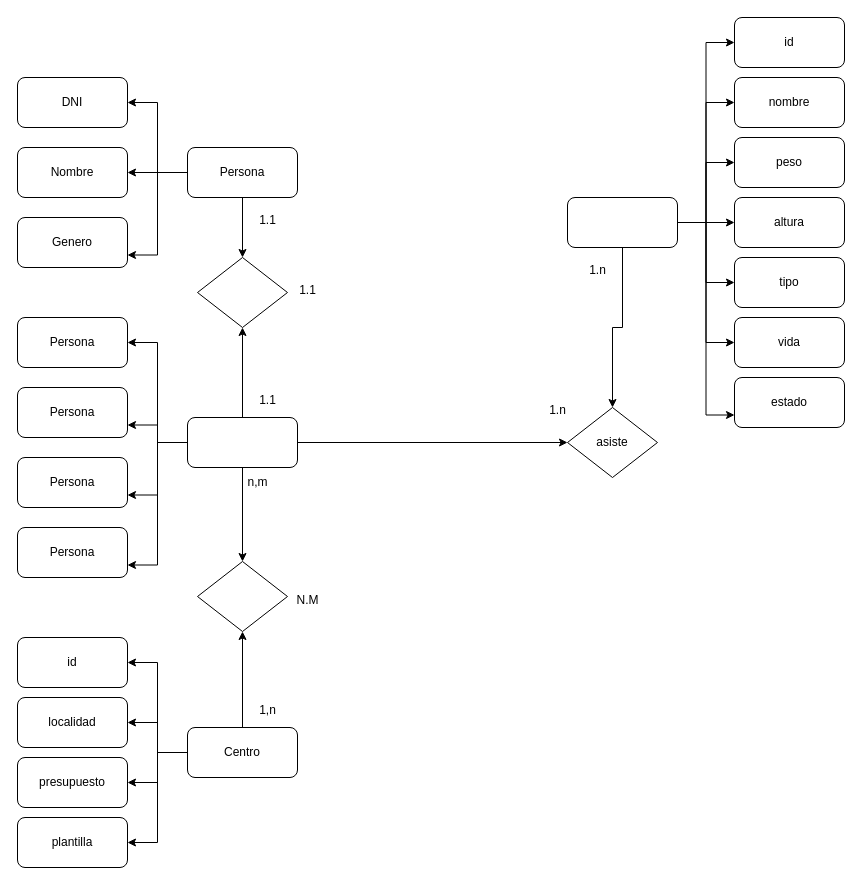
This 862x885 diagram has some shape labels left out. The centre of each missing label's shape, as x and y in pixels:
Enfermera: (x=242, y=442)
Pokémon: (x=622, y=222)
puede: (x=242, y=292)
trabaja: (x=242, y=596)
